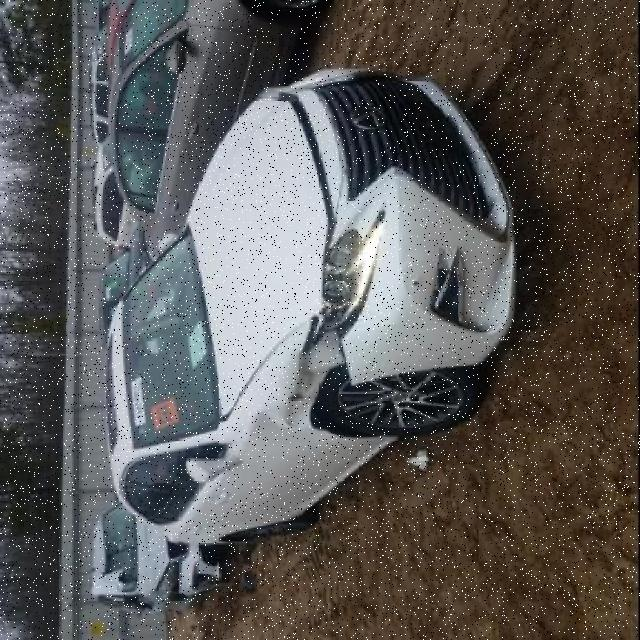damage: (279, 303, 368, 431)
